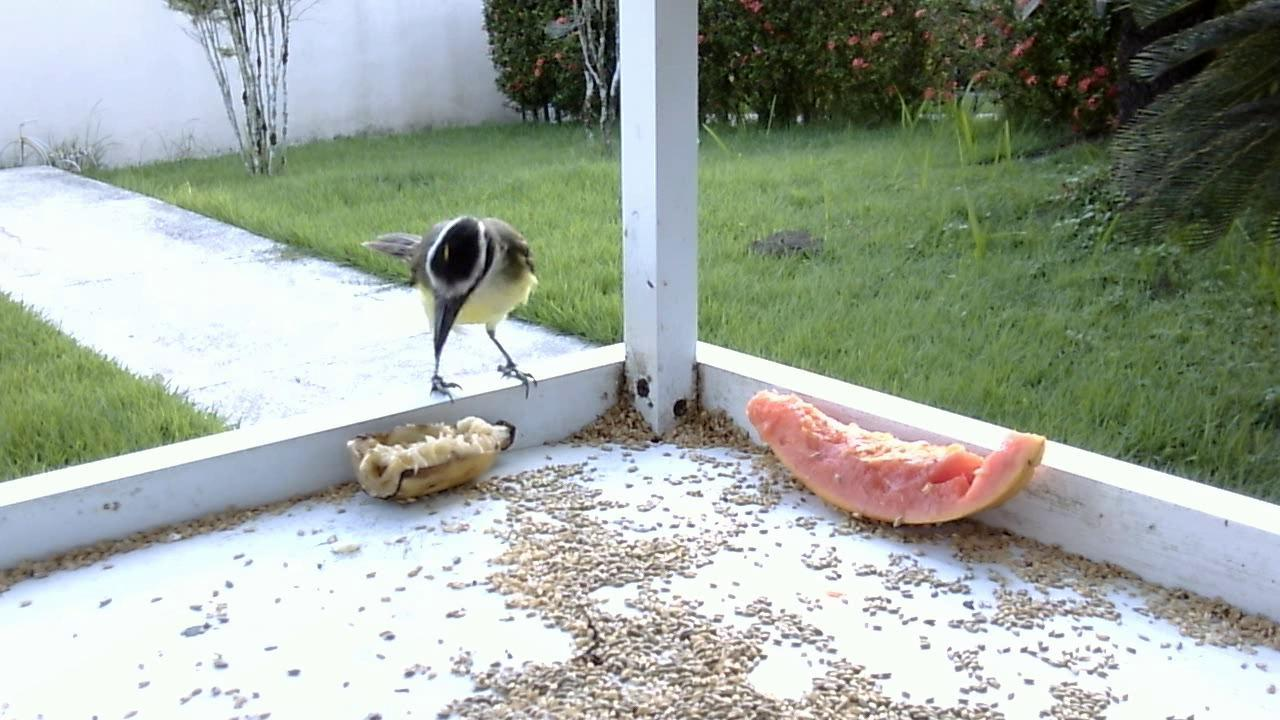bem_te_vi: (360, 204, 545, 414)
